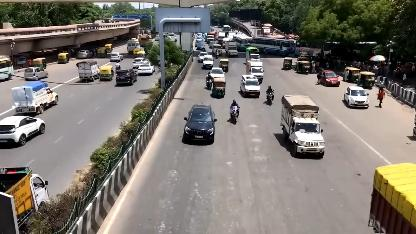auto-rikshaw: (358, 71, 376, 88), (212, 77, 226, 98), (344, 67, 360, 82), (297, 60, 311, 74), (220, 58, 229, 72), (282, 57, 292, 69)
bike: (227, 103, 243, 125), (265, 90, 275, 106)
bus: (252, 36, 296, 55), (233, 33, 253, 51)
car: (183, 100, 216, 148), (344, 86, 370, 108), (319, 70, 340, 86), (203, 54, 215, 70)
priority: (240, 74, 260, 98)
truck: (278, 93, 328, 161), (248, 62, 264, 82), (225, 41, 239, 57), (246, 46, 260, 60)
